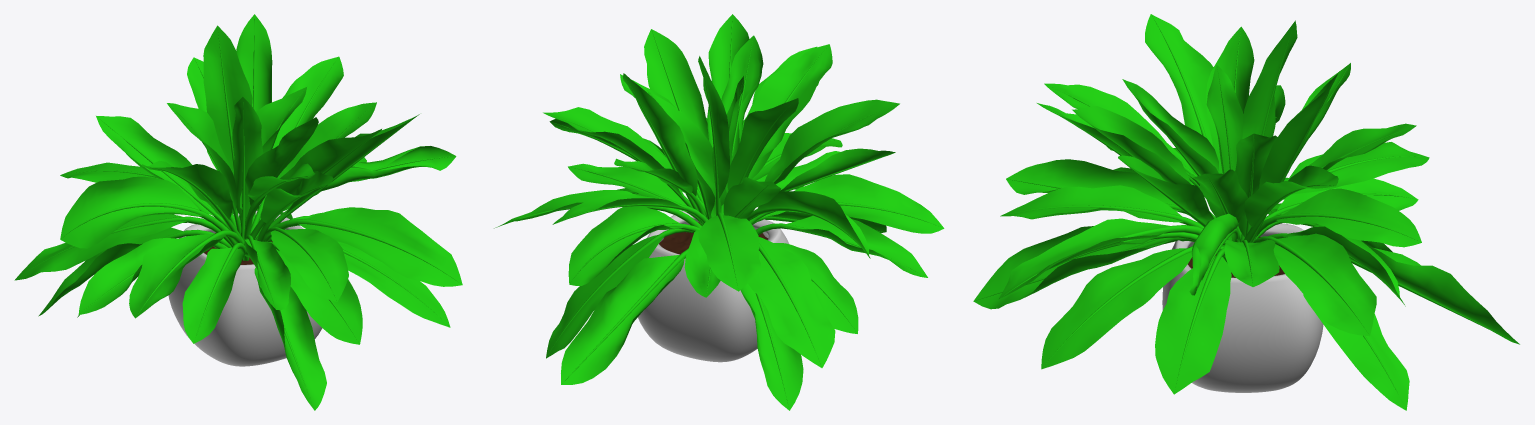
Rendered from plant_2.obj.
The picture shows the model from 3 angles, left to right: view 1: azimuth 30°, elevation 25°; view 2: azimuth 150°, elevation 25°; view 3: azimuth 270°, elevation 25°; orthographic projection. The views are drawn at different scales.
Visible parts, largest first — view 1: Plant_Plant_house_vase_N250620.122, Base_Plant_house_vase_N250620.026; view 2: Plant_Plant_house_vase_N250620.122, Base_Plant_house_vase_N250620.026, Soil_Plant_house_vase_N250620.048; view 3: Plant_Plant_house_vase_N250620.122, Base_Plant_house_vase_N250620.026.
Part boxes in pixels (x1,y1,x2,y2): Plant_Plant_house_vase_N250620.122: (14,14,462,410); Base_Plant_house_vase_N250620.026: (168,210,322,366); Plant_Plant_house_vase_N250620.122: (494,14,944,410); Base_Plant_house_vase_N250620.026: (638,211,788,362); Soil_Plant_house_vase_N250620.048: (659,222,768,254); Plant_Plant_house_vase_N250620.122: (973,14,1519,410); Base_Plant_house_vase_N250620.026: (1162,223,1323,392).
Size of the model in its own units: 3.39 by 2.63 by 3.75.
